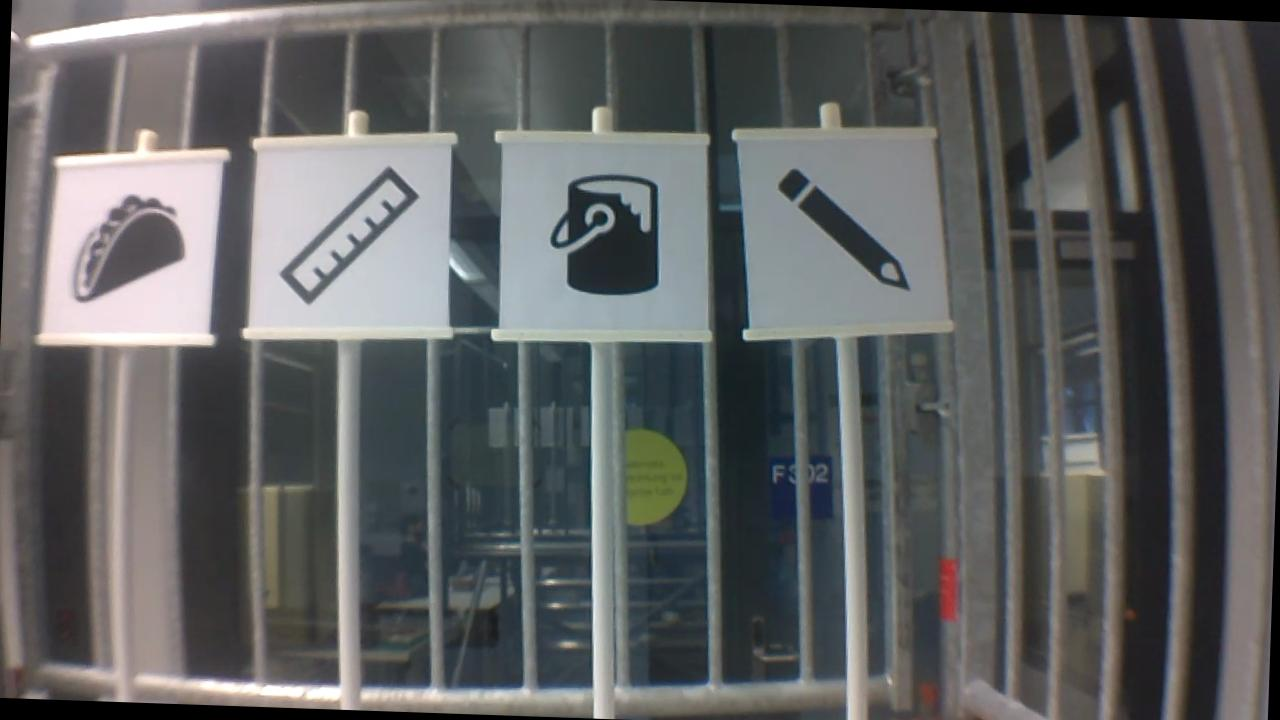bucket: (538, 166, 666, 303)
pencil: (760, 160, 920, 298)
ruler: (267, 154, 427, 315)
taco: (66, 186, 190, 309)
